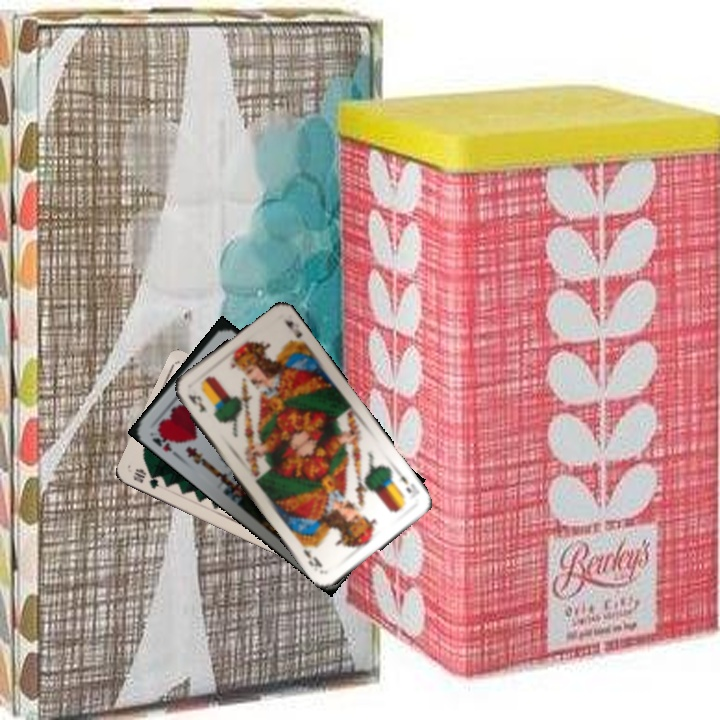EK: (395, 467, 422, 497), (184, 390, 210, 416)
G10: (129, 465, 161, 492)
HK: (148, 425, 181, 458)
